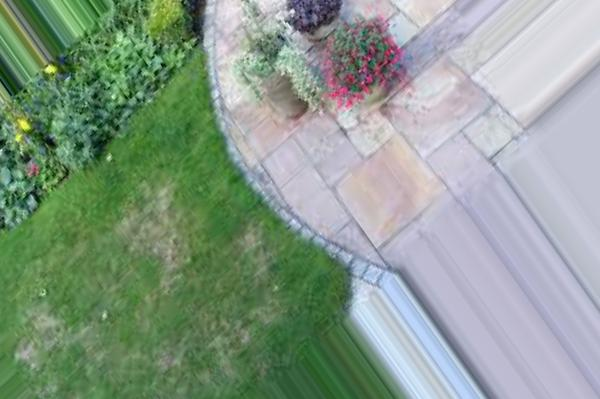patch: (145, 214, 193, 255), (38, 317, 60, 333)
